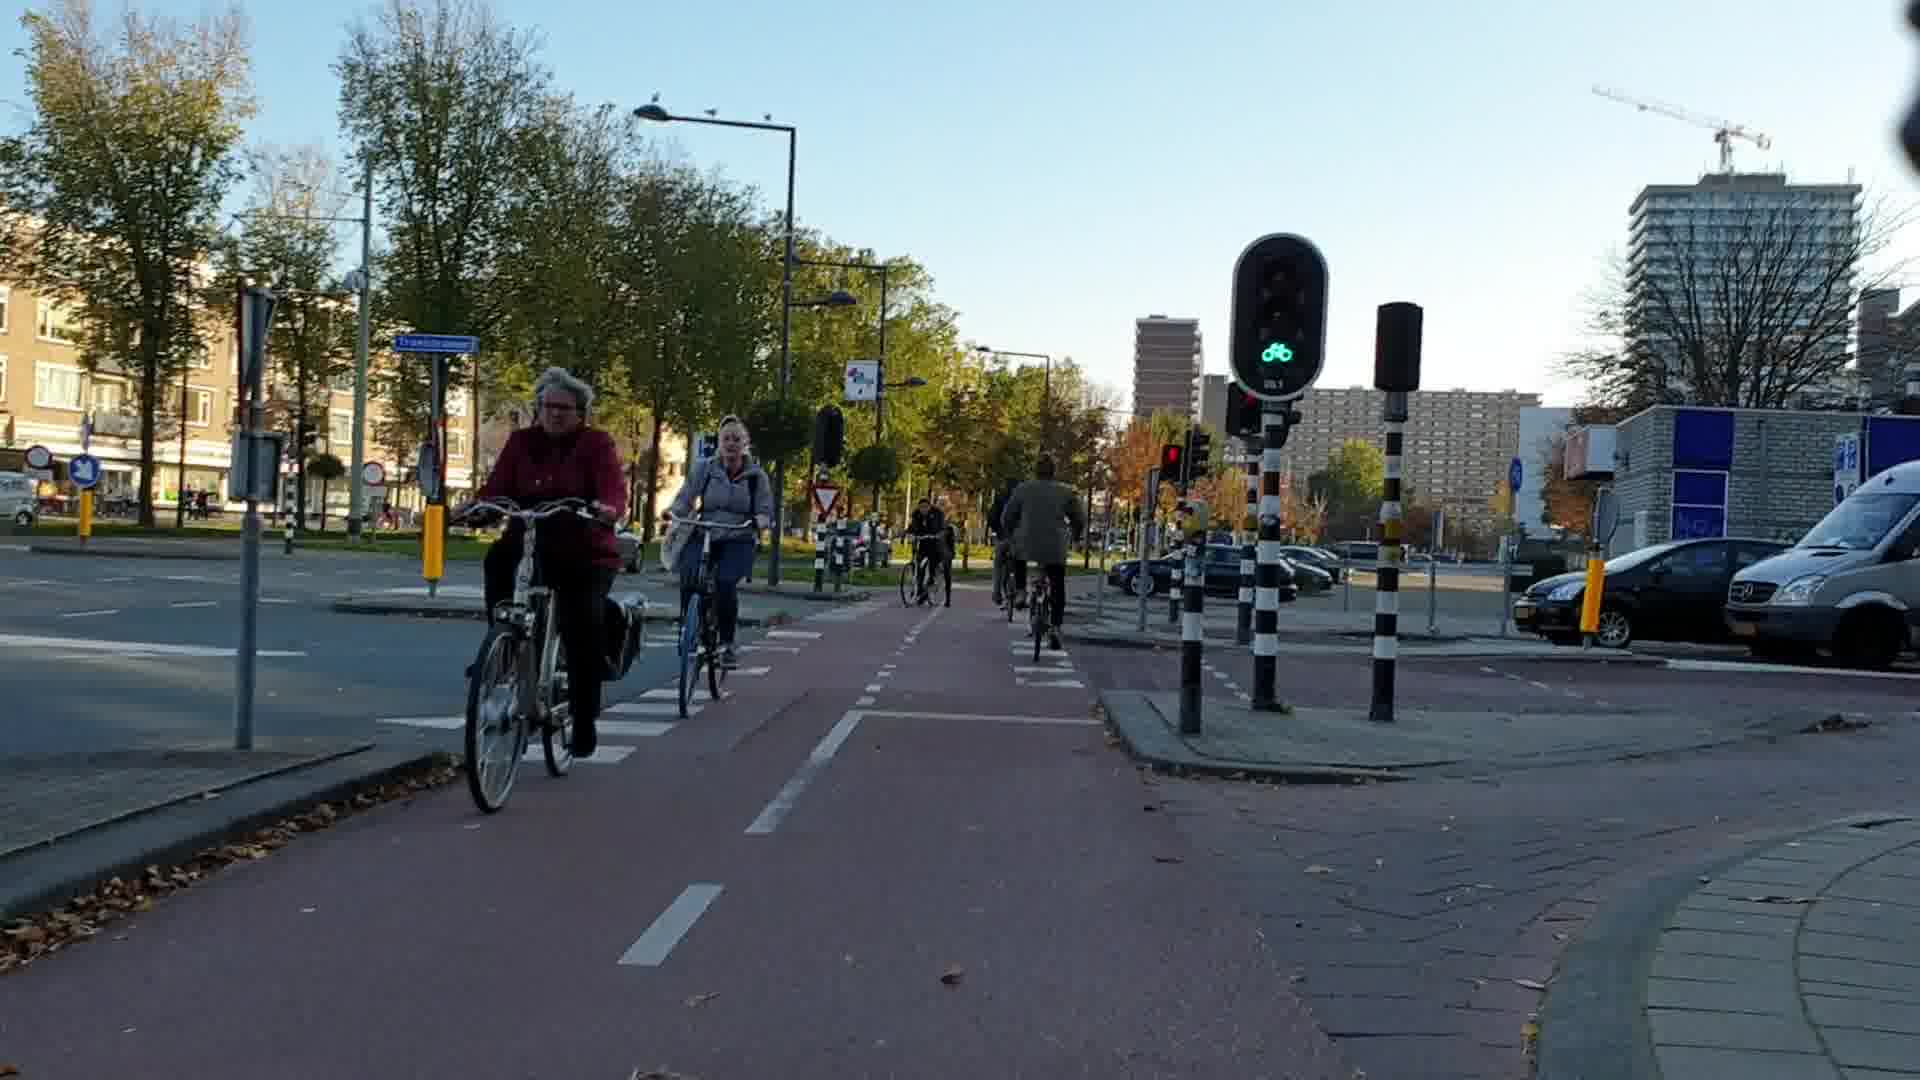car: (1730, 454, 1920, 671), (1519, 539, 1749, 651)
